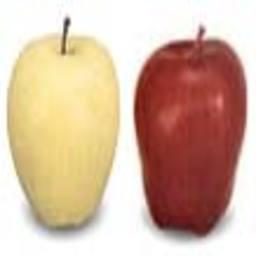apple: (133, 34, 249, 236), (9, 35, 119, 232)
